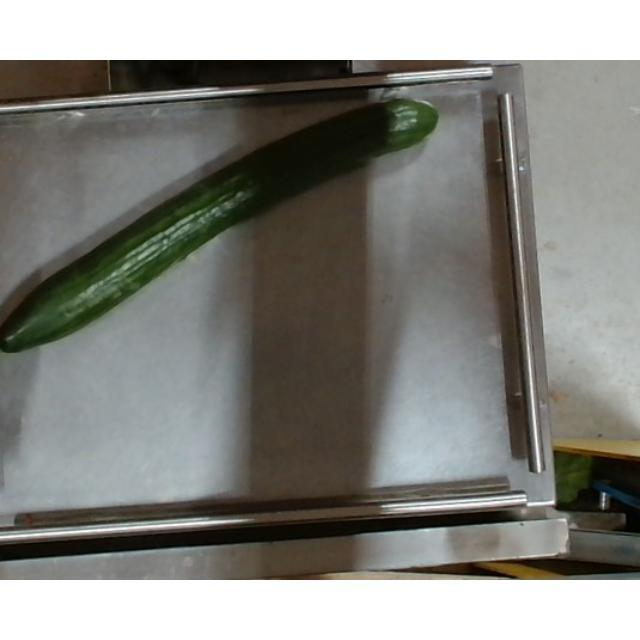cucumber: (1, 98, 440, 354)
